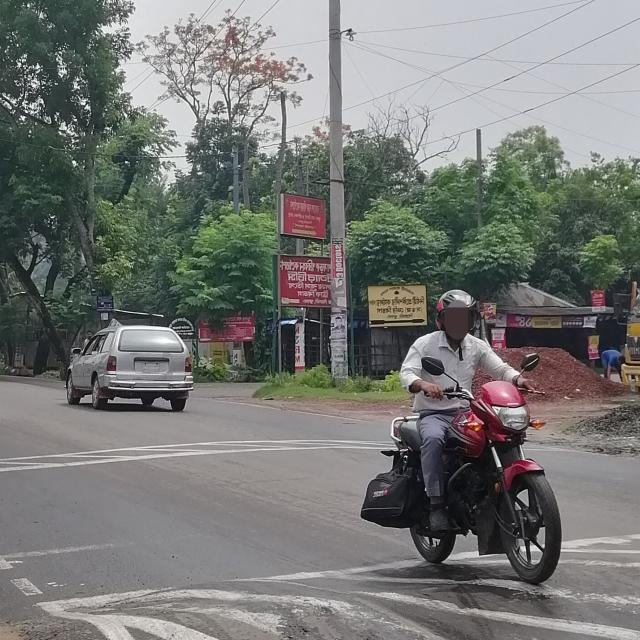Car: (63, 320, 198, 414)
Motorbike: (358, 376, 566, 590)
